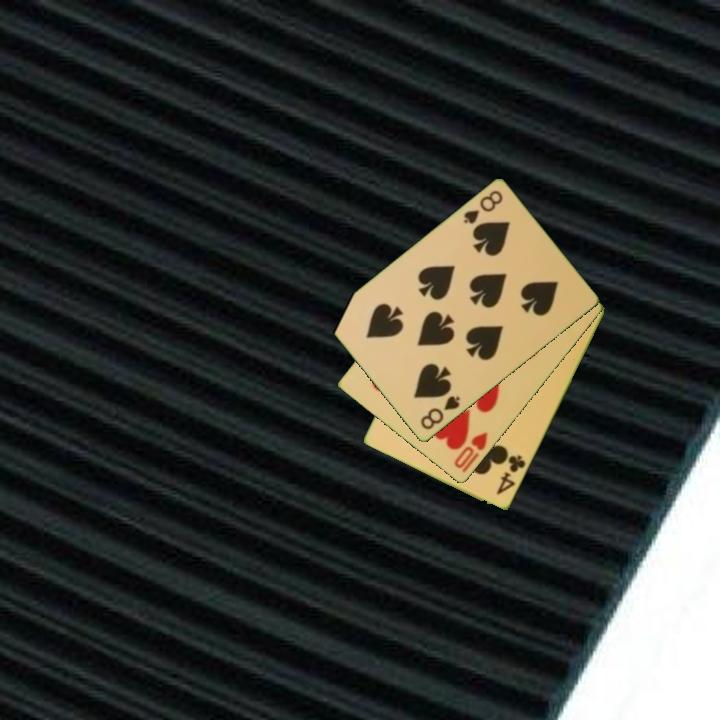10h: (451, 429, 491, 476)
4c: (493, 452, 529, 498)
8s: (417, 392, 463, 433), (460, 187, 506, 227)
